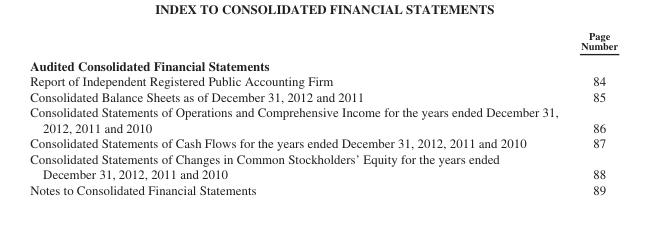table: (29, 29, 616, 196)
table column: (29, 29, 569, 196), (569, 29, 616, 196)
table column header: (29, 29, 616, 54)
table projected row header: (29, 54, 616, 73)
table row: (29, 104, 616, 135), (29, 150, 616, 181), (29, 29, 616, 54), (29, 54, 616, 73), (29, 88, 616, 104), (29, 73, 616, 88), (29, 135, 616, 150), (29, 181, 616, 196)
